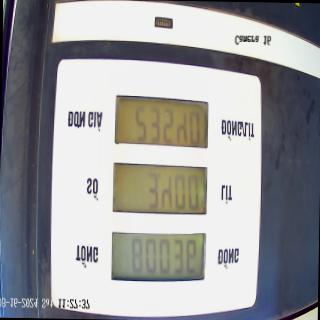screen: (108, 88, 210, 288)
